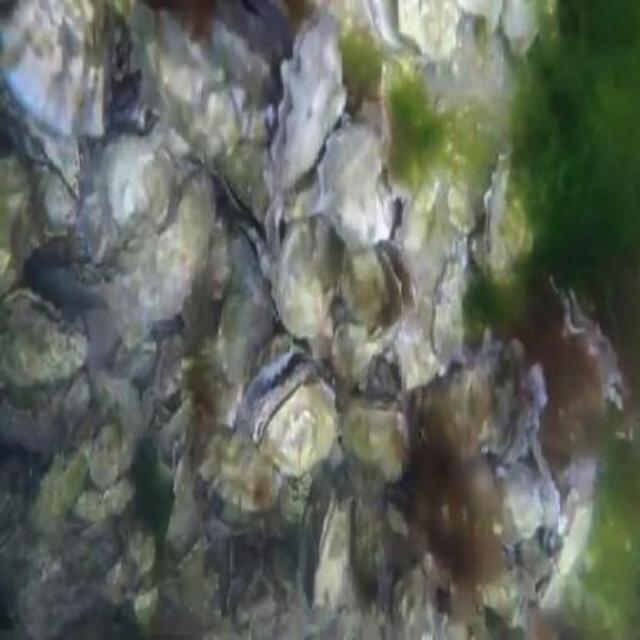Oyster-Closed: (110, 174, 217, 351), (0, 0, 115, 136), (273, 10, 345, 192), (84, 135, 180, 260), (552, 277, 631, 412), (0, 289, 86, 390), (272, 220, 346, 333), (484, 153, 539, 274), (339, 397, 412, 481), (543, 492, 594, 607), (313, 493, 355, 608)
Oyster-Open: (247, 338, 339, 478), (192, 405, 288, 529), (185, 0, 284, 86), (340, 242, 414, 330), (371, 0, 459, 65), (217, 139, 271, 223)
